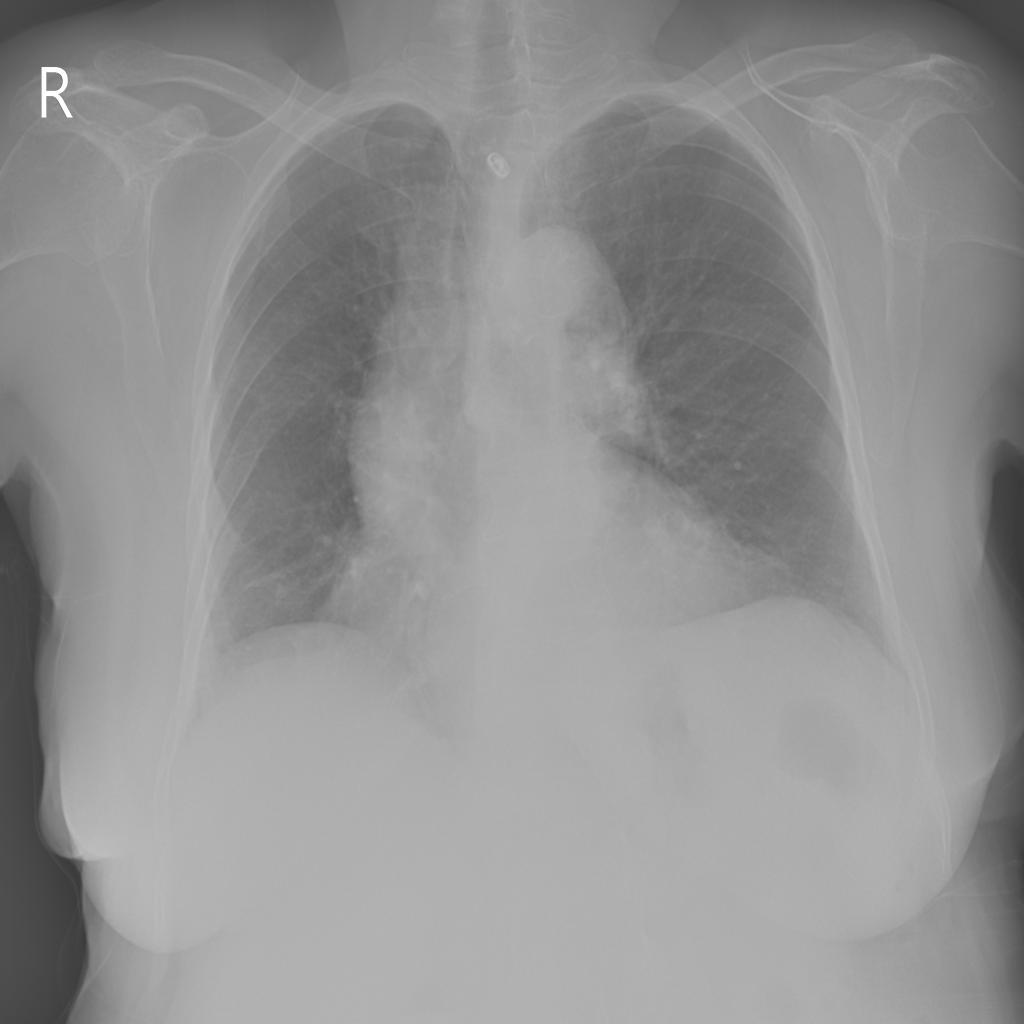Nodule: (347, 378, 452, 538)
